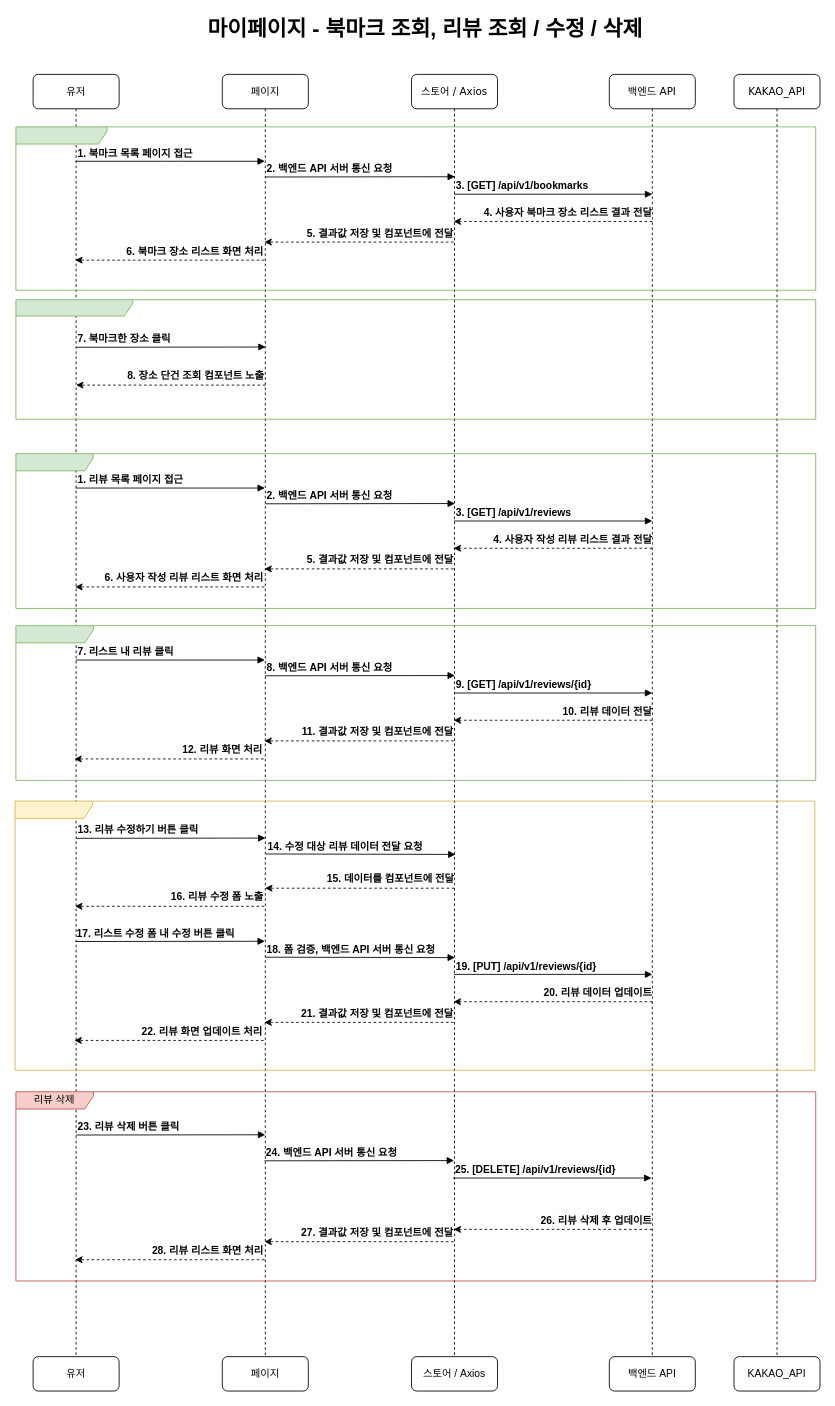
This 835x1406 diagram has some shape labels left out. Each missing label, with the centre of its shape:
리뷰 단건 조회: point 415,702
리뷰 목록 조회: point 415,530
리뷰 수정: point 414,935
북마크 목록 조회: point 415,208
북마크 장소 단건 조회: point 415,359
